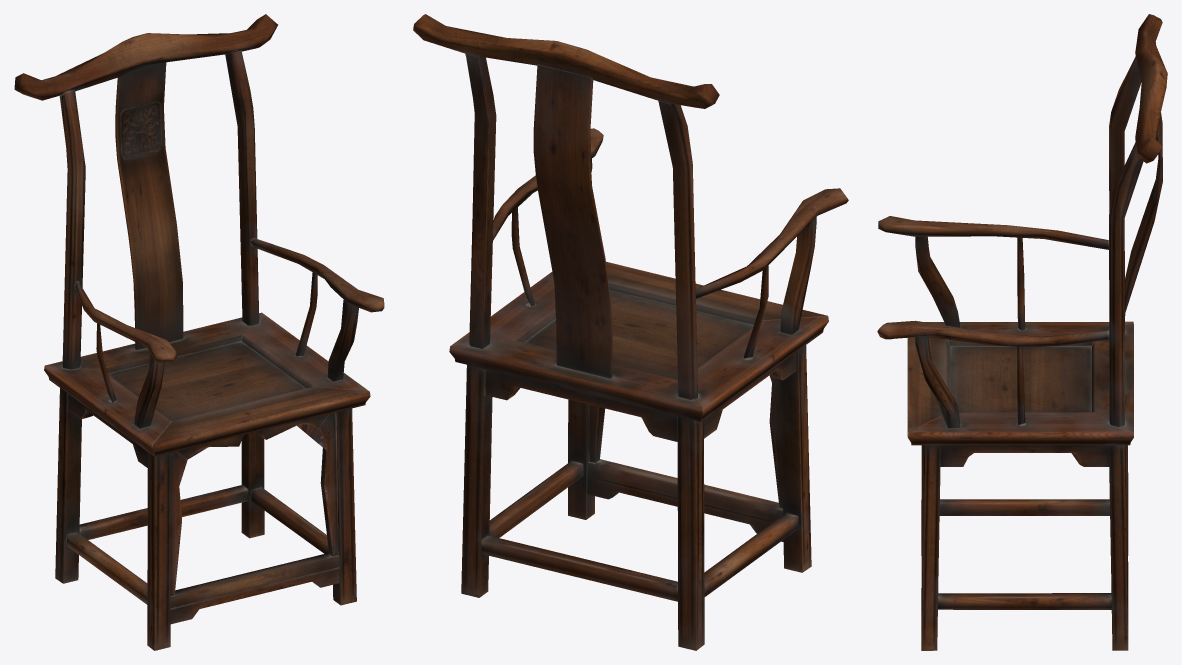
The model's file is chinese_armchair_lod2.glb.
The picture shows the model from 3 angles, left to right: view 1: azimuth 30°, elevation 25°; view 2: azimuth 150°, elevation 25°; view 3: azimuth 270°, elevation 25°; orthographic projection. The views are drawn at different scales.
Visible parts, largest first — view 1: chinese_armchair; view 2: chinese_armchair; view 3: chinese_armchair.
Boxes of the visible parts, x1=… form: chinese_armchair: x1=14, y1=14, x2=384, y2=650; chinese_armchair: x1=413, y1=14, x2=848, y2=650; chinese_armchair: x1=877, y1=14, x2=1167, y2=650.
Size of the model in its own units: 0.8483 by 1.59 by 0.7878.
1 material, 1 textured.
